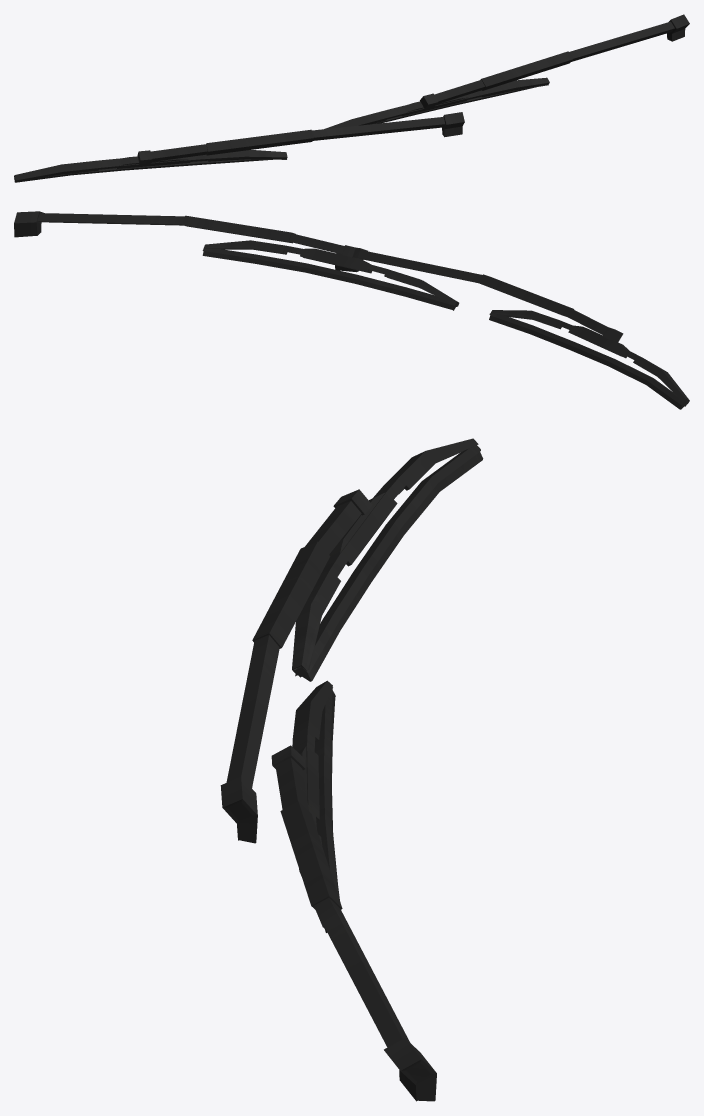
The model's file is wipers.obj.
The picture shows the model from 3 angles, top to bottom: view 1: azimuth 30°, elevation 25°; view 2: azimuth 150°, elevation 25°; view 3: azimuth 270°, elevation 25°; orthographic projection. The views are drawn at different scales.
Visible parts, largest first — view 1: windshieldWipers; view 2: windshieldWipers; view 3: windshieldWipers.
Boxes of the visible parts, x1=… form: windshieldWipers: x1=14, y1=14, x2=689, y2=182; windshieldWipers: x1=14, y1=211, x2=689, y2=409; windshieldWipers: x1=220, y1=438, x2=483, y2=1101.
Size of the model in its own units: 111 by 5.89 by 19.14.
Materials: 1 (1 with a texture image).
